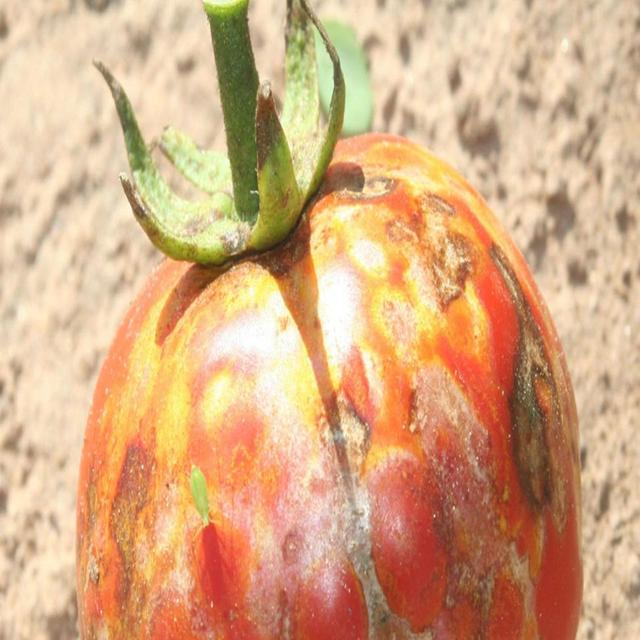Spotted wilt Virus Fruit: (191, 224, 580, 629)
